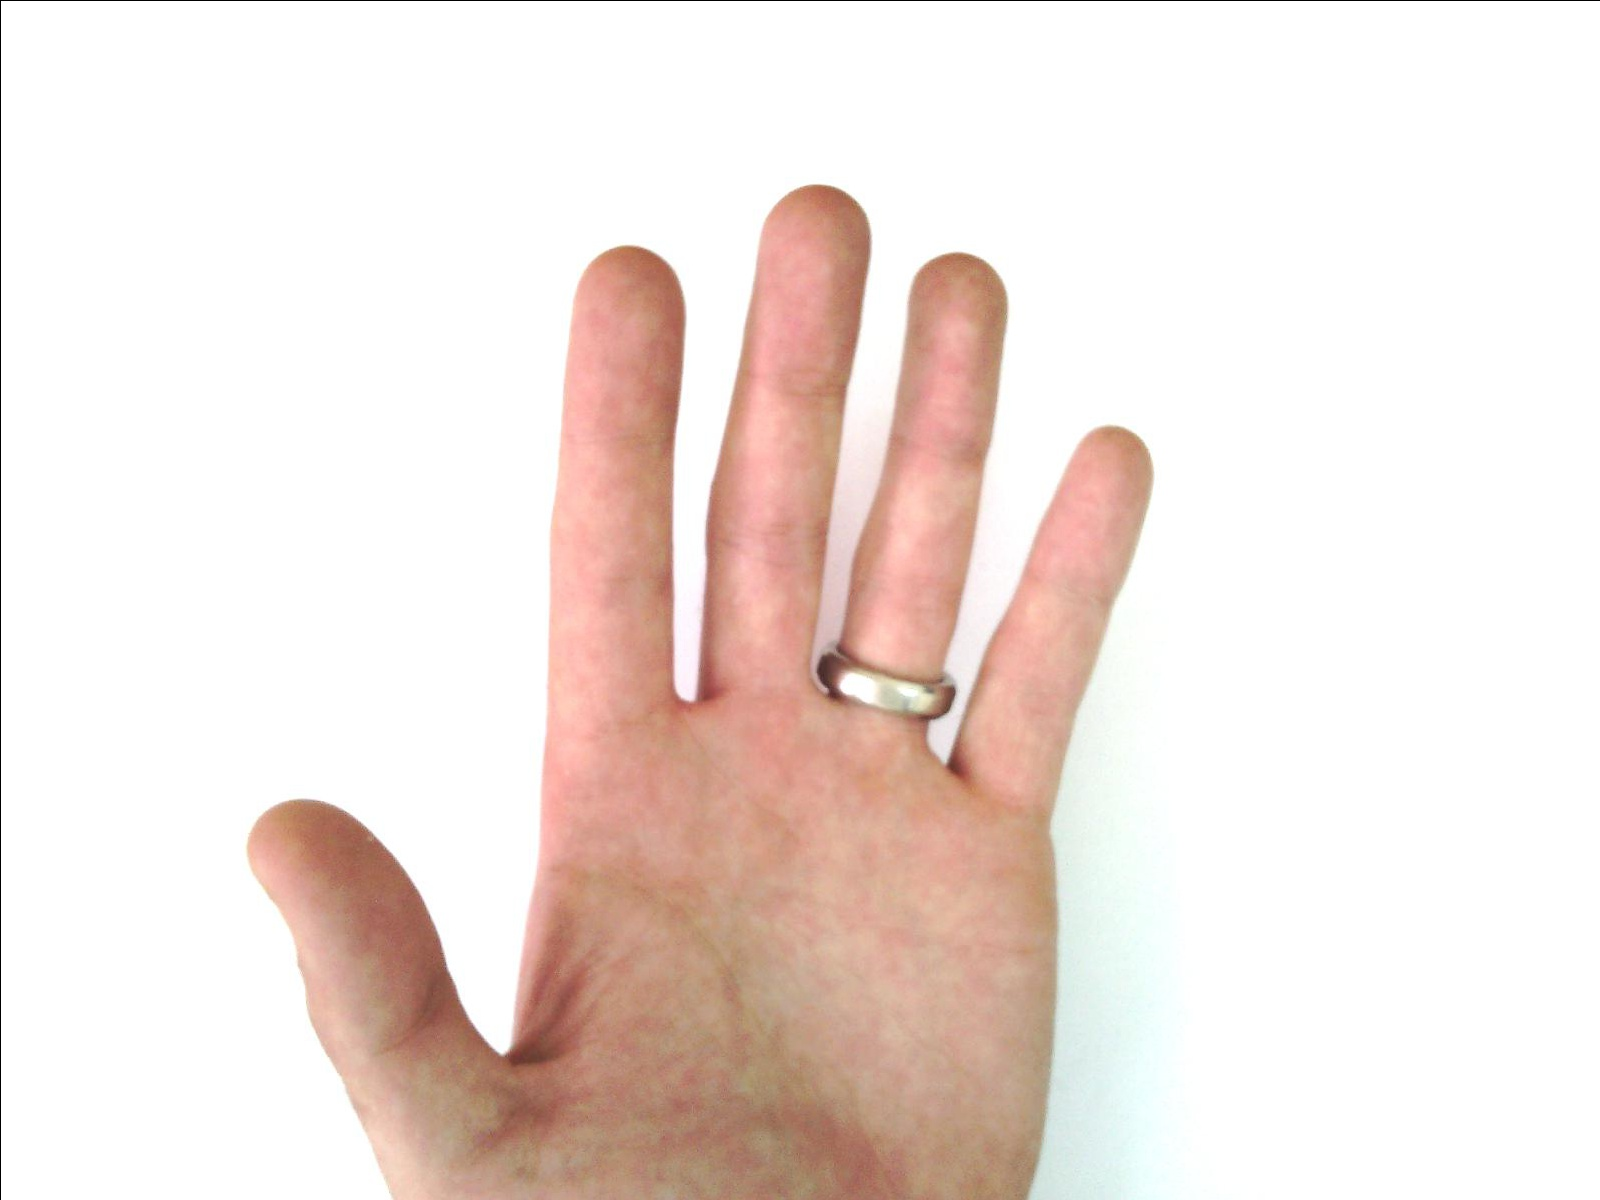5-hand: (249, 187, 1153, 1200)
